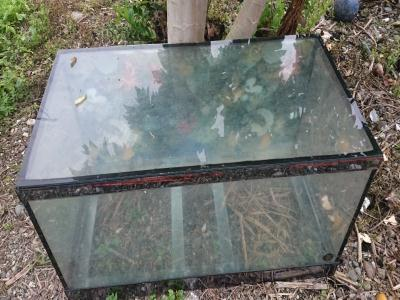aquarium: (10, 33, 389, 298)
